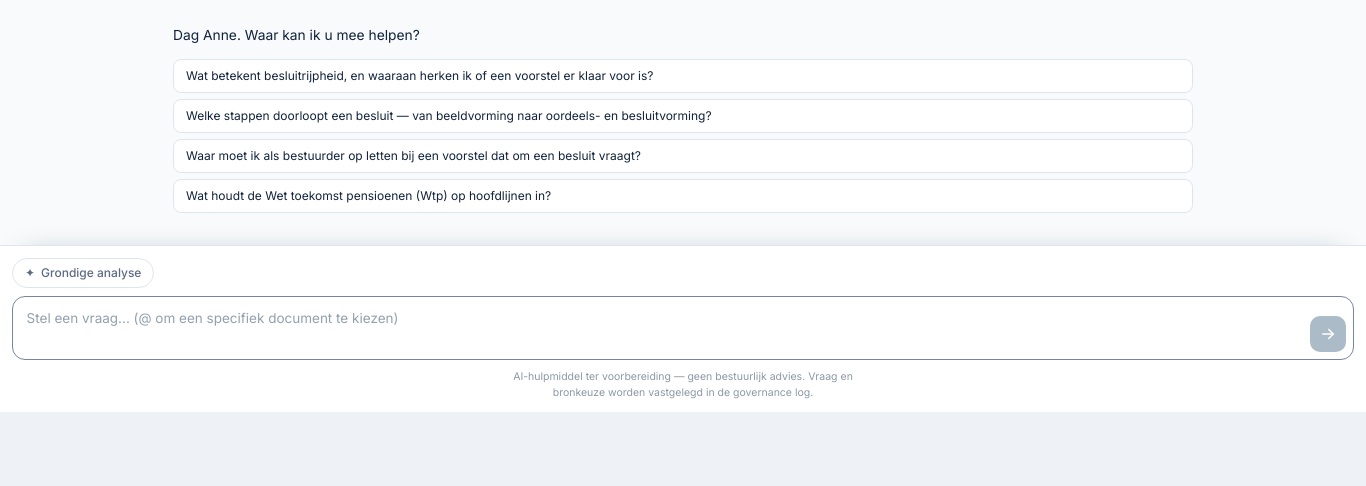
Scenario: AssistentClient — SSE-verwerking › bouwt een antwoord op uit losse delta's en sluit het af op 'done'
Type "Wat is onze dekkingsgraad?" into the text box with placeholder "Stel een vraag... (@ om een specifiek document te kiezen)" at x=683, y=328, box [13,297,1353,360]
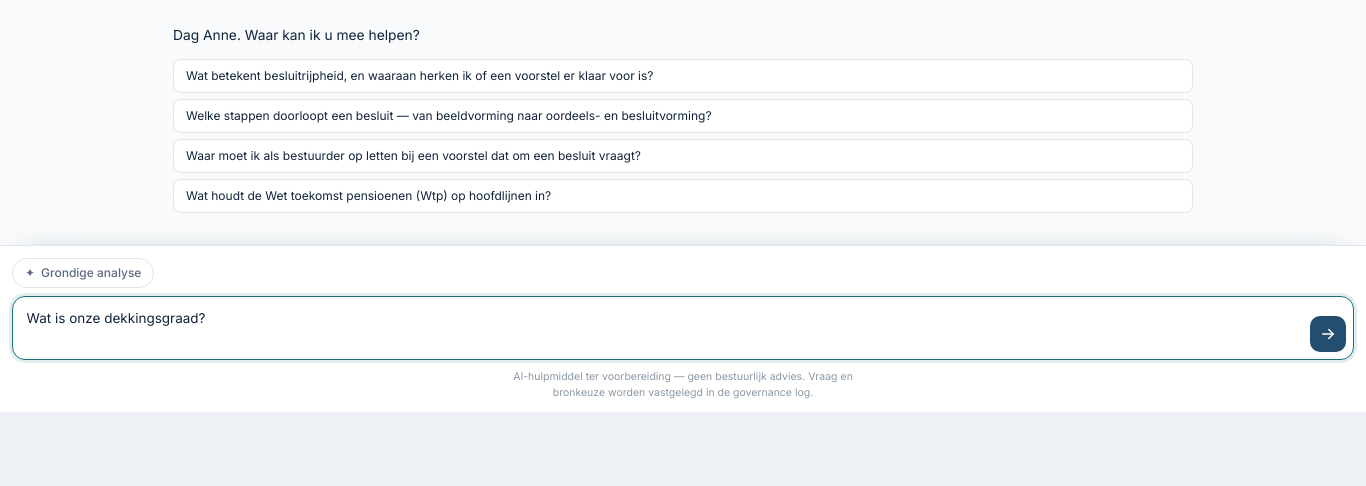
Click the button named "Vraag versturen" at x=1328, y=334, box [1310,316,1346,352]
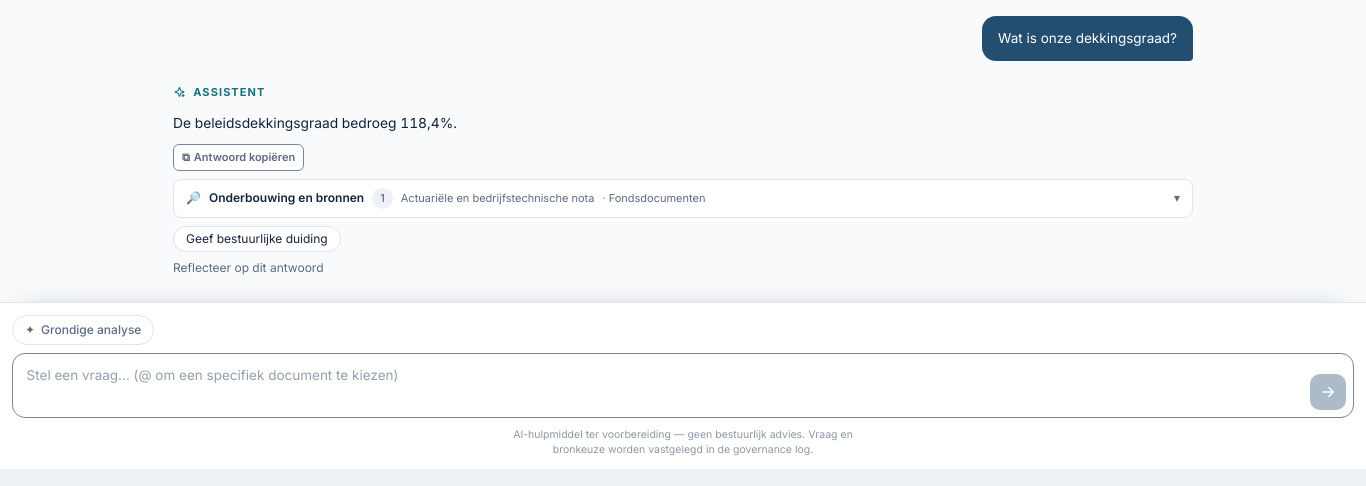
Expected: the text "De beleidsdekkingsgraad bedroeg 118,4%." is shown, [173,115,457,131]
Expected: the button "⧉ Antwoord kopiëren" is shown, [173,144,304,170]
